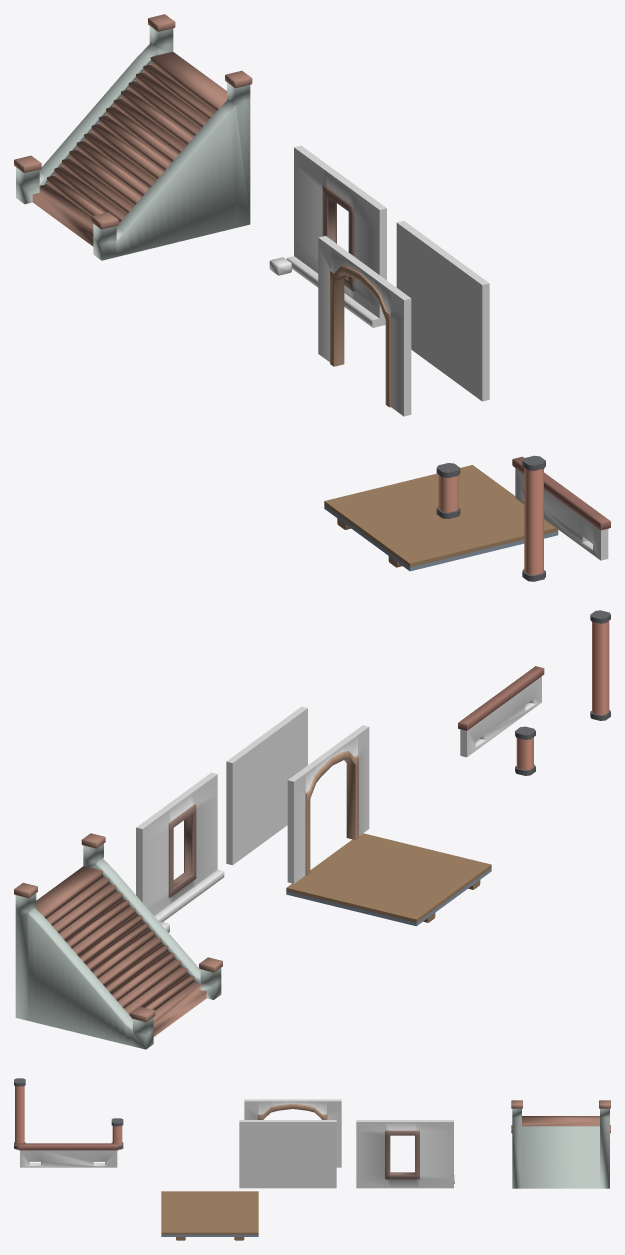
File: Building.fbx
3 views of the same model, one above another, from view 1: azimuth 30°, elevation 25°; view 2: azimuth 150°, elevation 25°; view 3: azimuth 270°, elevation 25° (orthographic). The views are drawn at different scales.
Parts seen in each view (by area): view 1: Cube.006, Cube, Cube.001, Cube.007, Cube.005, Cube.002, Cube.003, Cube.004, Cube.008; view 2: Cube.006, Cube, Cube.001, Cube.007, Cube.005, Cube.002, Cube.003, Cube.004, Cube.008; view 3: Cube.006, Cube.001, Cube.007, Cube, Cube.002, Cube.005, Cube.003, Cube.004.
Part boxes in pixels (x1,y1,x2,y2): Cube.006: (14,14,252,260); Cube: (324,465,558,571); Cube.001: (396,221,489,401); Cube.007: (294,145,386,325); Cube.005: (318,235,411,416); Cube.002: (512,456,610,560); Cube.003: (522,455,545,581); Cube.004: (436,463,460,519); Cube.008: (286,256,382,327); Cube.006: (14,833,222,1049); Cube: (286,833,491,926); Cube.001: (226,706,307,865); Cube.007: (136,772,217,915); Cube.005: (287,725,369,883); Cube.002: (458,666,544,757); Cube.003: (590,610,610,720); Cube.004: (515,726,535,775); Cube.008: (154,869,224,921); Cube.006: (511,1100,610,1188); Cube.001: (239,1120,336,1188); Cube.007: (356,1120,453,1188); Cube: (161,1191,258,1240); Cube.002: (18,1143,118,1167); Cube.005: (244,1099,341,1167); Cube.003: (14,1078,25,1149); Cube.004: (111,1118,123,1149).
Size of the model in its own units: 2142 by 3086 by 12242.
